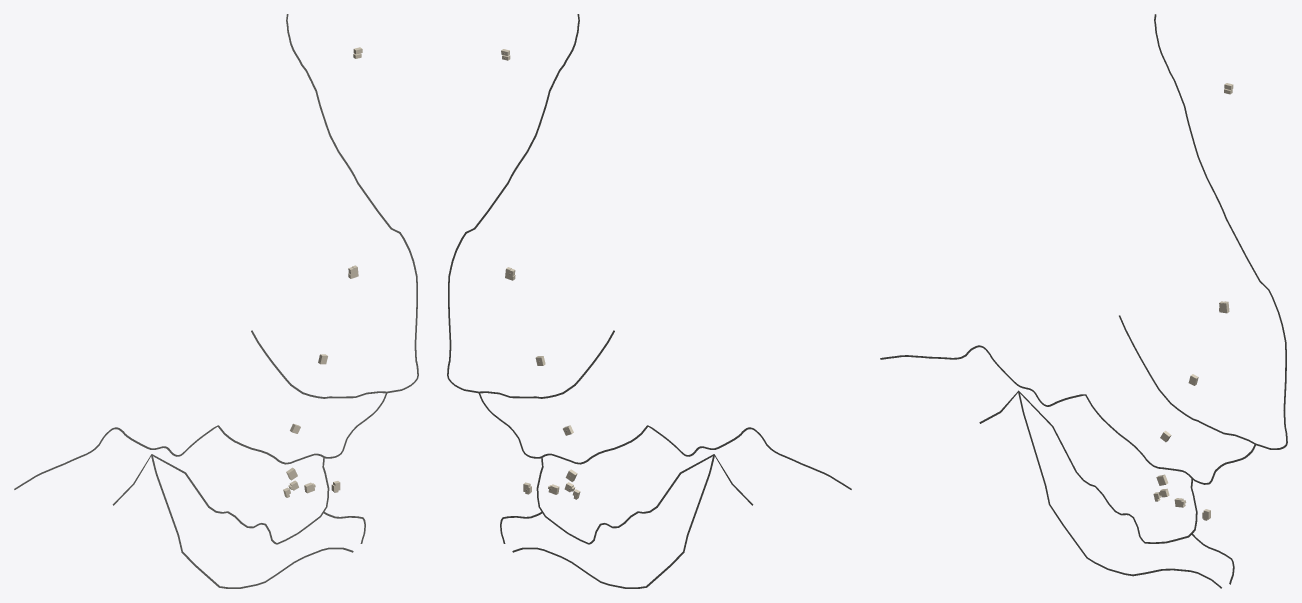
The model's file is historic-palestine-13_37_3552_3316.glb.
3 renders of one model, left to right at view 1: azimuth 30°, elevation 25°; view 2: azimuth 150°, elevation 25°; view 3: azimuth 330°, elevation 25°, orthographic.
Visible parts, largest first — view 1: Road, Road .001, Road .002, Road .004; view 2: Road, Road .001, Road .002, Road .004; view 3: Road, Road .001, Road .002, Road .004.
Part boxes in pixels (x1,y1,x2,y2): Road: [251, 14, 418, 398]; Road .001: [14, 392, 387, 489]; Road .002: [112, 454, 329, 544]; Road .004: [151, 455, 353, 588]; Road: [447, 14, 614, 398]; Road .001: [478, 393, 851, 489]; Road .002: [536, 454, 753, 544]; Road .004: [512, 455, 714, 588]; Road: [1119, 14, 1287, 449]; Road .001: [880, 345, 1255, 484]; Road .002: [979, 390, 1197, 543]; Road .004: [1018, 392, 1221, 588].
Bounding box in the file's own units: 767 × 1022 × 8.7.
